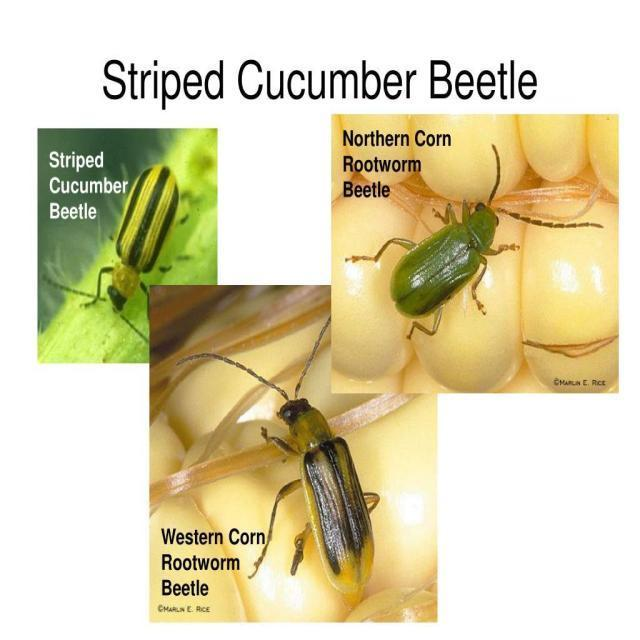gusano_gris: (344, 144, 606, 343)
trips: (174, 326, 380, 610), (82, 166, 190, 310)
